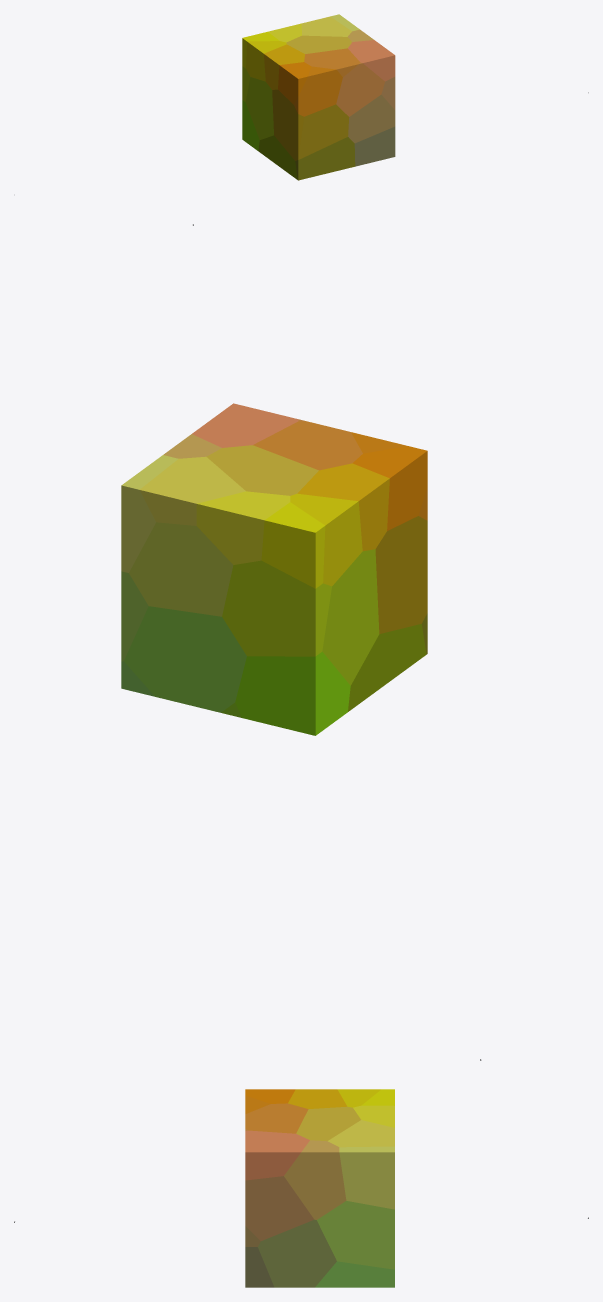
Rendered from RBD_Rock_mesh_vc.fbx.
3 renders of one model, top to bottom at view 1: azimuth 30°, elevation 25°; view 2: azimuth 150°, elevation 25°; view 3: azimuth 270°, elevation 25°, orthographic. The views are drawn at different scales.
Visible parts, largest first — view 1: Mesh; view 2: Mesh; view 3: Mesh.
Part boxes in pixels (x1,y1,x2,y2): Mesh: (242, 14, 588, 180); Mesh: (121, 224, 481, 1060); Mesh: (14, 1089, 588, 1287).
Bounding box in the file's own units: 3.7 × 1.7 × 3.85.
